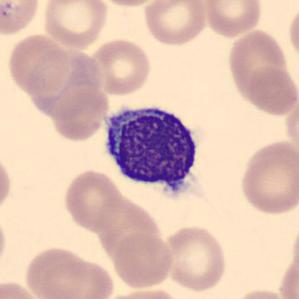Lymphocyte: (97, 96, 208, 206)
RBC: (225, 27, 292, 107), (22, 245, 116, 299), (26, 47, 102, 113), (237, 138, 298, 218), (161, 223, 229, 293), (6, 32, 71, 96), (61, 167, 124, 233), (86, 37, 153, 97), (111, 230, 176, 290), (50, 84, 110, 144), (40, 0, 110, 50), (141, 0, 210, 47), (244, 64, 297, 118), (202, 0, 264, 39), (0, 0, 42, 38), (100, 286, 183, 299), (0, 278, 47, 299), (278, 250, 298, 298), (0, 150, 13, 217), (231, 286, 292, 299), (286, 4, 299, 63), (0, 209, 9, 275), (91, 0, 165, 8)
